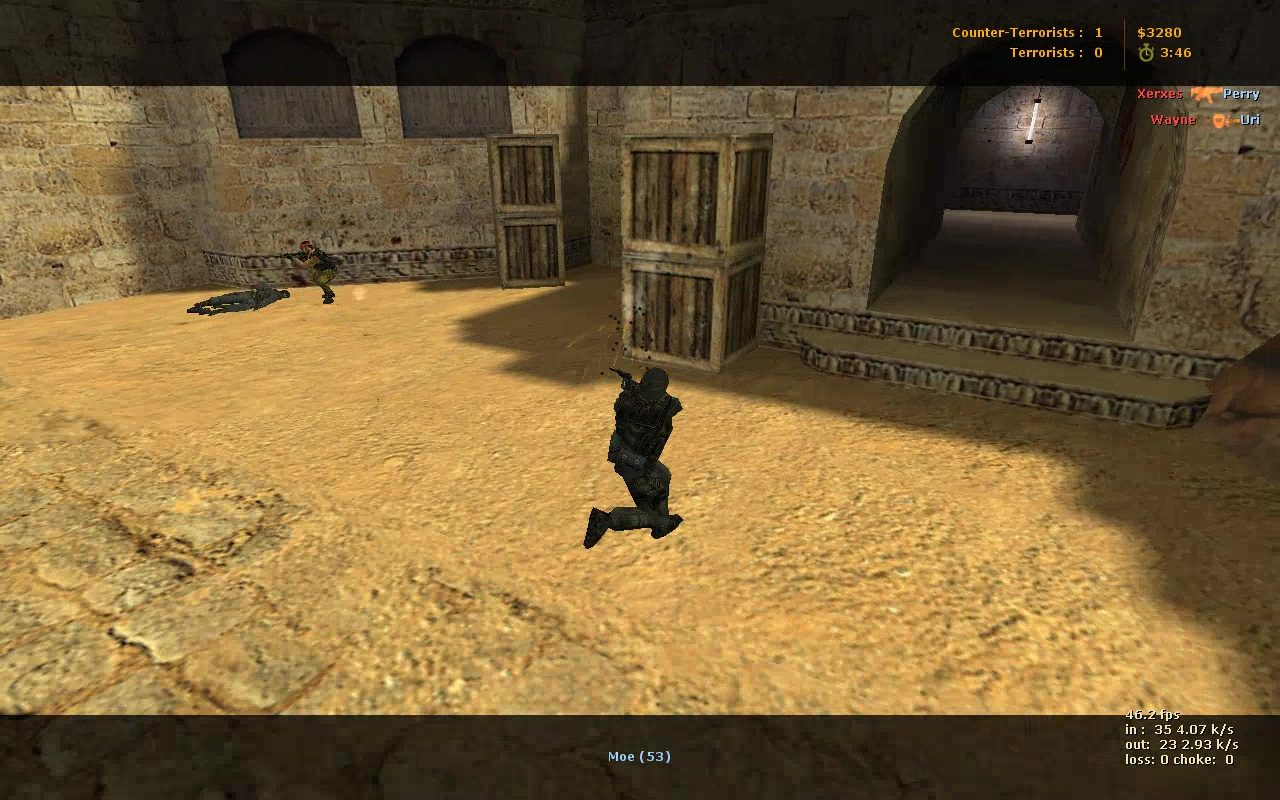ct: (580, 362, 691, 544)
dead: (188, 287, 292, 319)
terr1: (293, 243, 348, 312)
